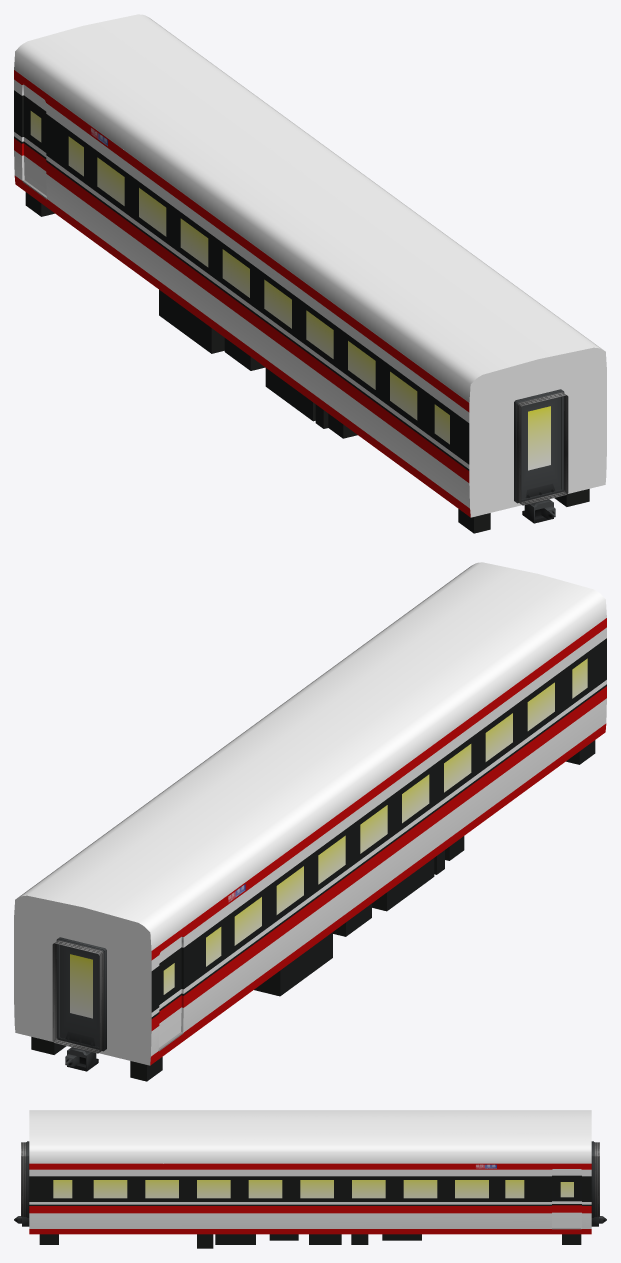
3 renders of one model, top to bottom at view 1: azimuth 30°, elevation 25°; view 2: azimuth 150°, elevation 25°; view 3: azimuth 270°, elevation 25°, orthographic. The views are drawn at different scales.
Visible parts, largest first — view 1: in; view 2: in; view 3: in.
Boxes of the visible parts, x1,y1,x2,y2 form: in: [14, 14, 606, 533]; in: [14, 562, 606, 1081]; in: [14, 1110, 606, 1248].
Size of the model in its own units: 6.84 by 8.29 by 41.34.
Materials: 12 (12 with a texture image).
